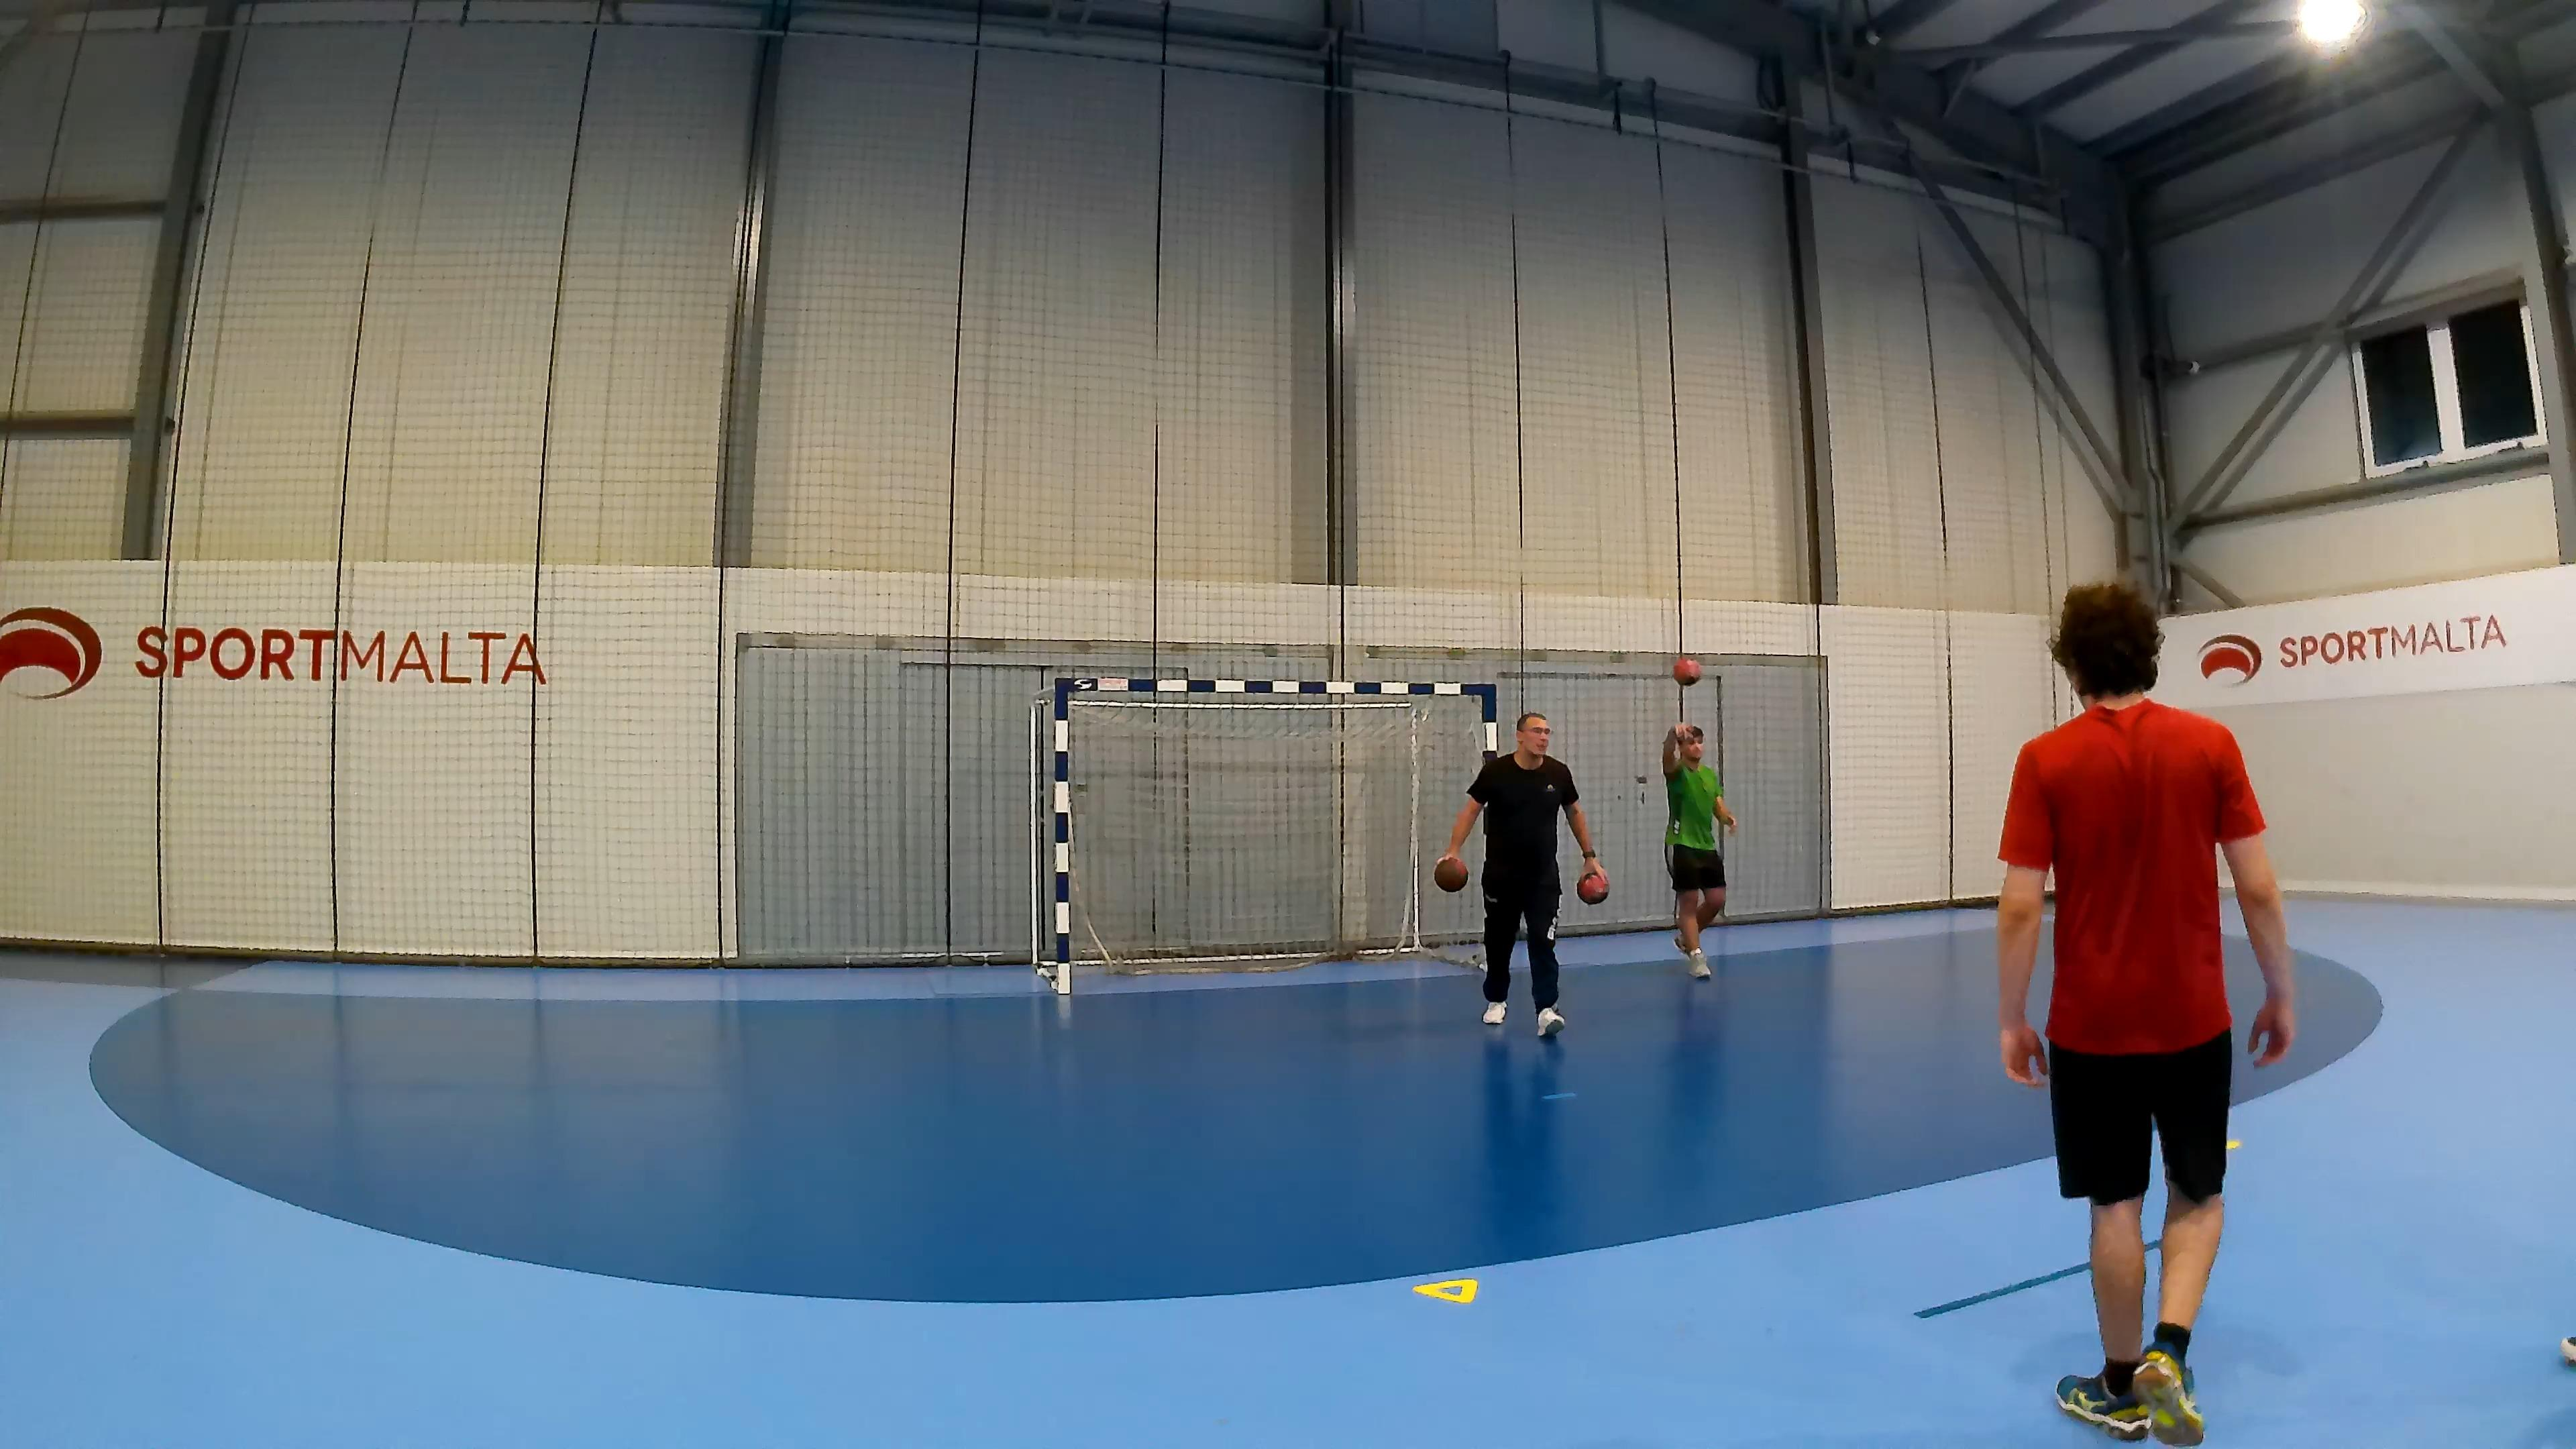handball: (1433, 855, 1468, 892), (1575, 869, 1608, 904), (1672, 656, 1700, 683)
